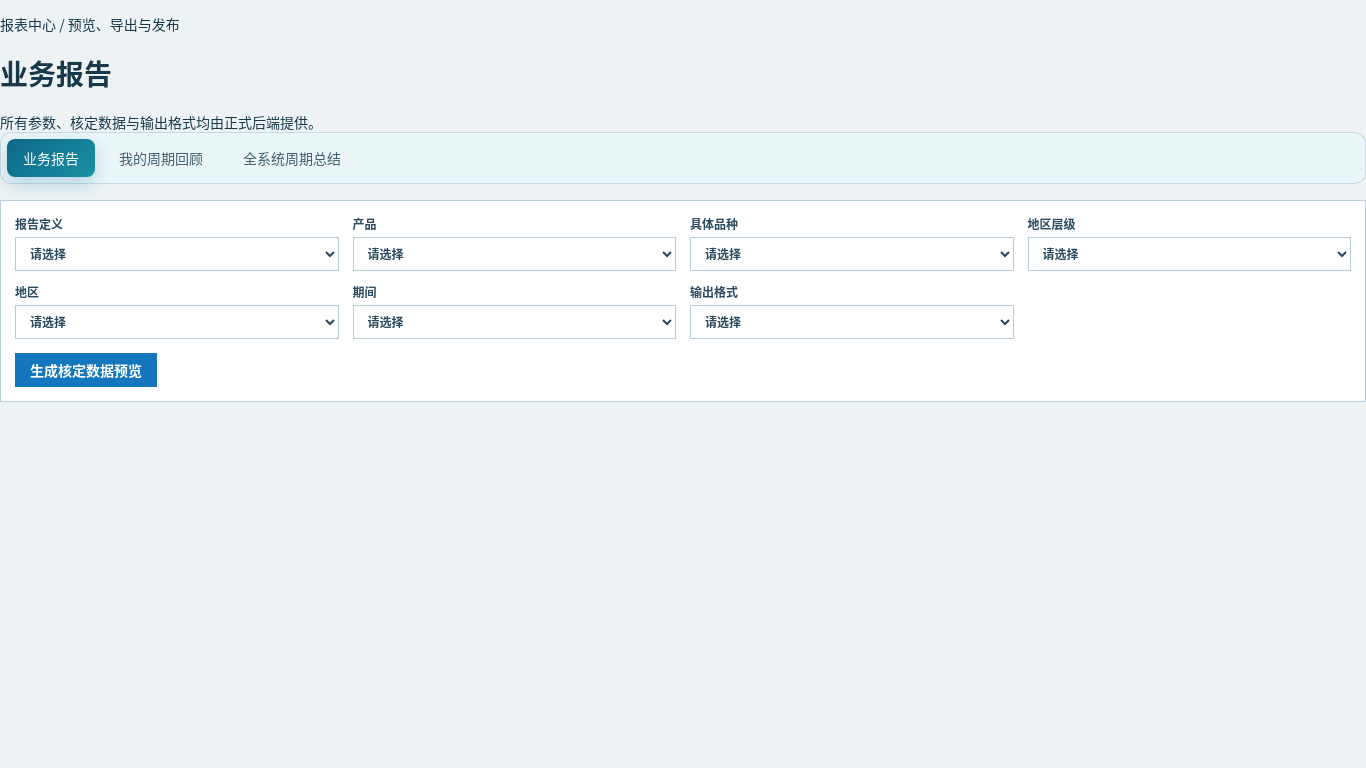
Scenario: ReportingCenterPage › shows personal animation and authorized system summary without changing business reports
The image size is (1366, 768).
Click the button "我的周期回顾": click(161, 158) [103,138,219,176]
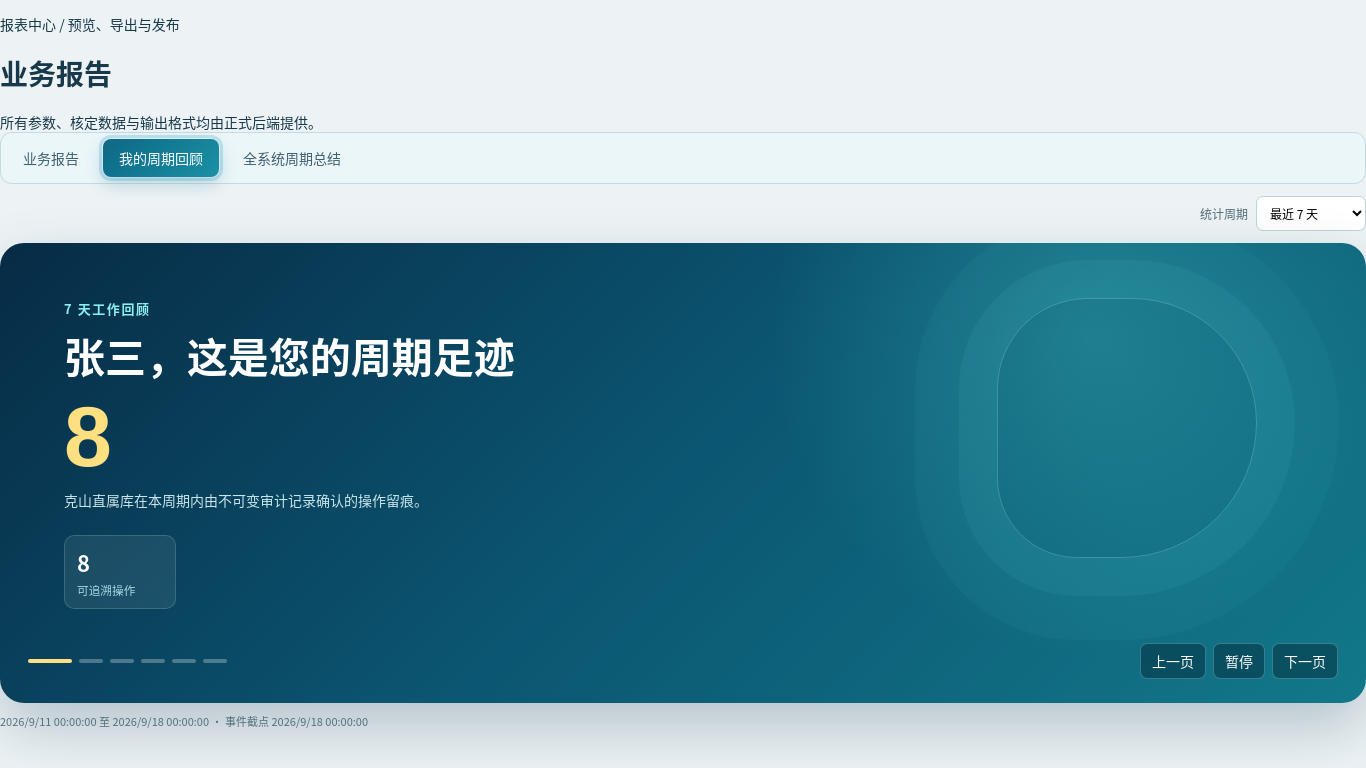
Check: the element named "个人周期动画回顾" is shown
Click the button "全系统周期总结": click(292, 158) [227,138,357,176]
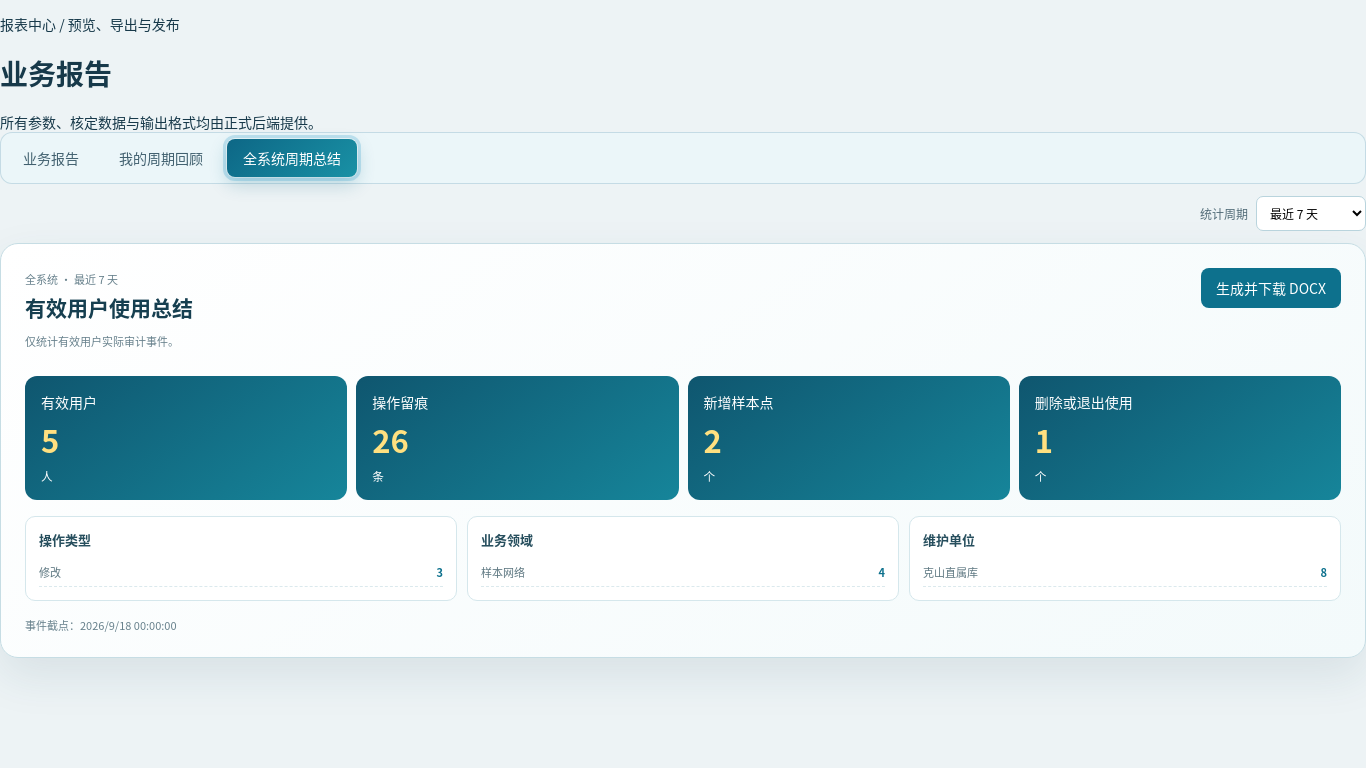
Check: the heading "有效用户使用总结" is shown, box [25,292,193,322]
Check: the text "5" is shown, box [41,416,59,462]
